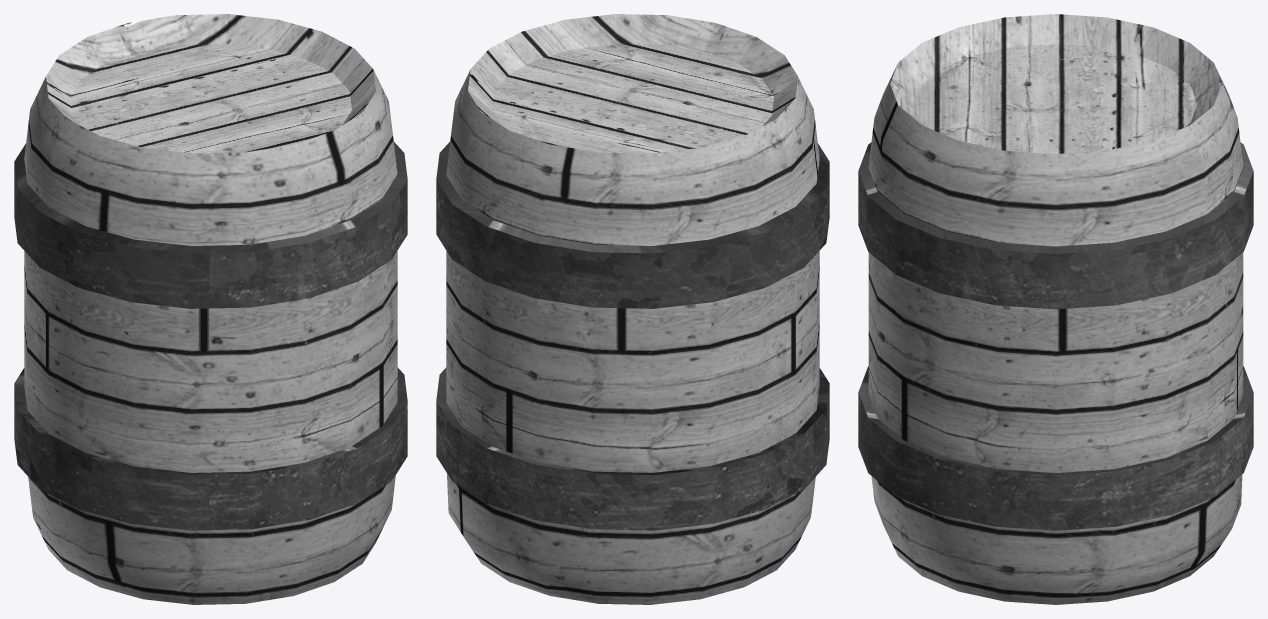
Rendered from slasher_barrel_mesh.fbx.
3 views of the same model, side by side, from view 1: azimuth 30°, elevation 25°; view 2: azimuth 150°, elevation 25°; view 3: azimuth 270°, elevation 25° (orthographic).
Parts seen in each view (by area): view 1: pCylinder1; view 2: pCylinder1; view 3: pCylinder1.
Boxes of the visible parts, box(x1,y1,x2,y2) form: pCylinder1: box(14, 14, 407, 604); pCylinder1: box(436, 14, 829, 604); pCylinder1: box(858, 14, 1253, 604).
Bounding box in the file's own units: 119 × 150 × 119.
Materials: 1 (1 with a texture image).
